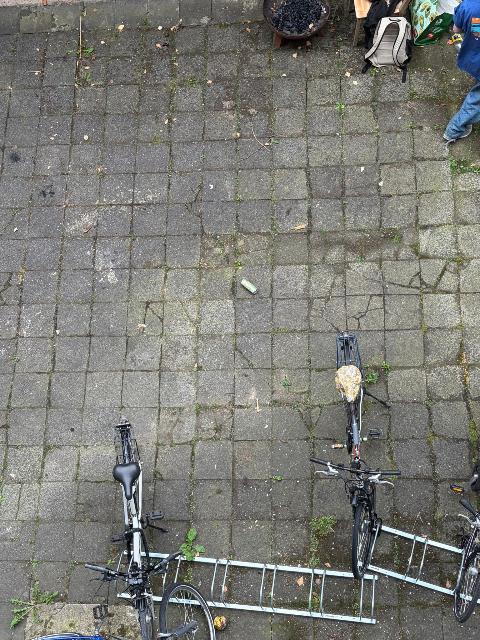can: (241, 279, 258, 294)
